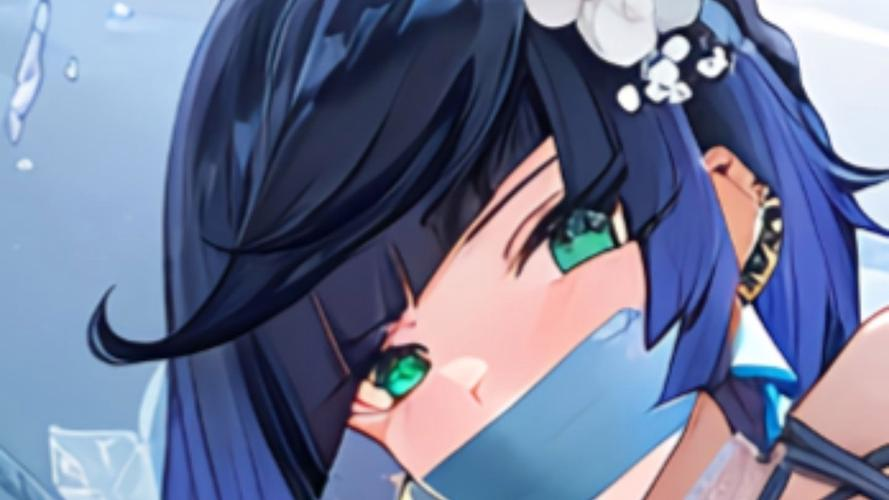夜兰: (131, 2, 889, 500)
